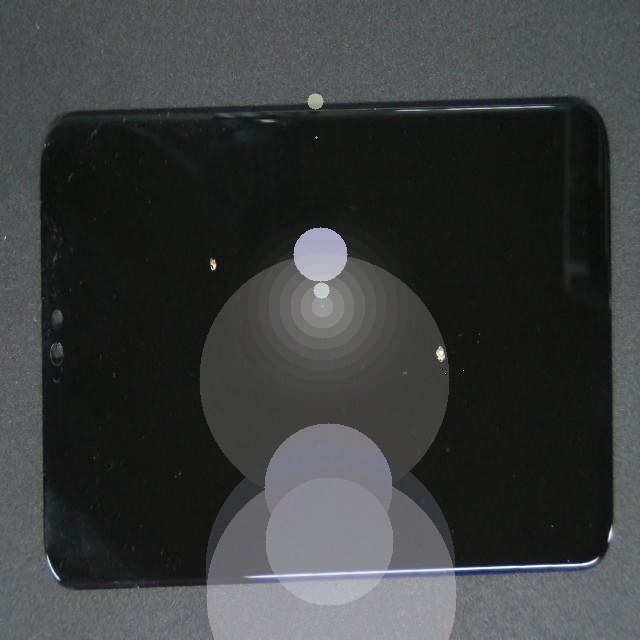stain: (201, 161, 640, 542), (86, 113, 305, 401)
